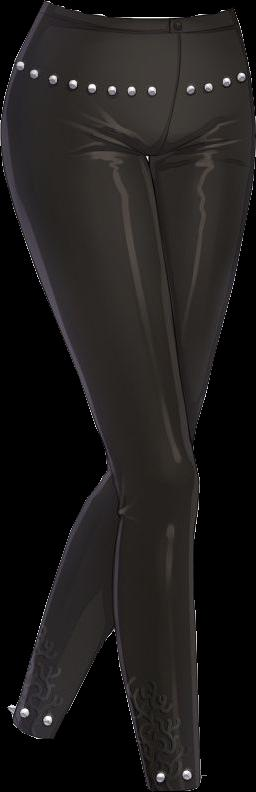Hemline: (8, 711, 55, 743), (146, 777, 205, 791)
Pantleg: (8, 10, 255, 738), (1, 2, 201, 791)
Waistline: (40, 0, 236, 30)
